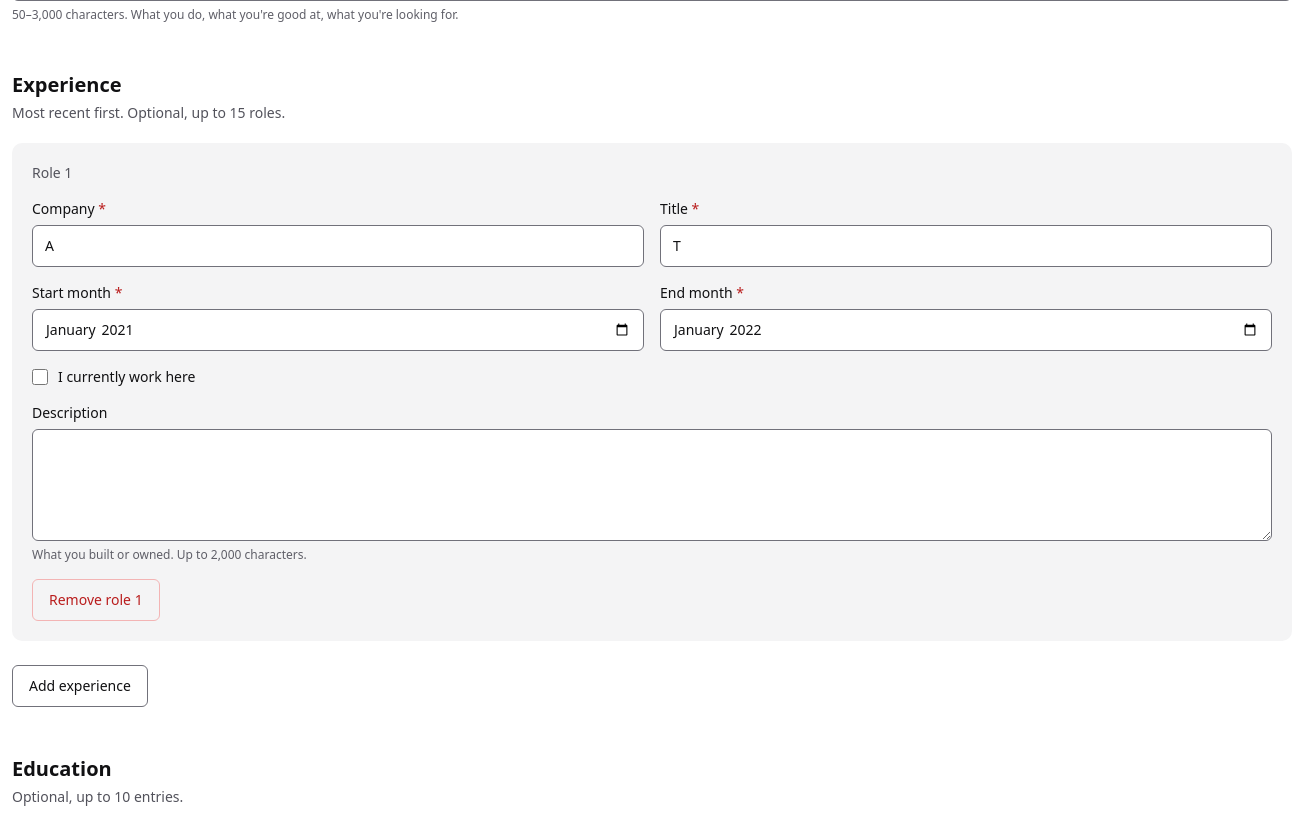
Scenario: CandidateForm › hides the end month when the role is current
(page scrolled)
expect the field labelled "End month *" is shown: met, box 660,308 -> 1272,350
Click the checkbox labelled "I currently work here".
click(40, 376)  # box 32,368 -> 48,384
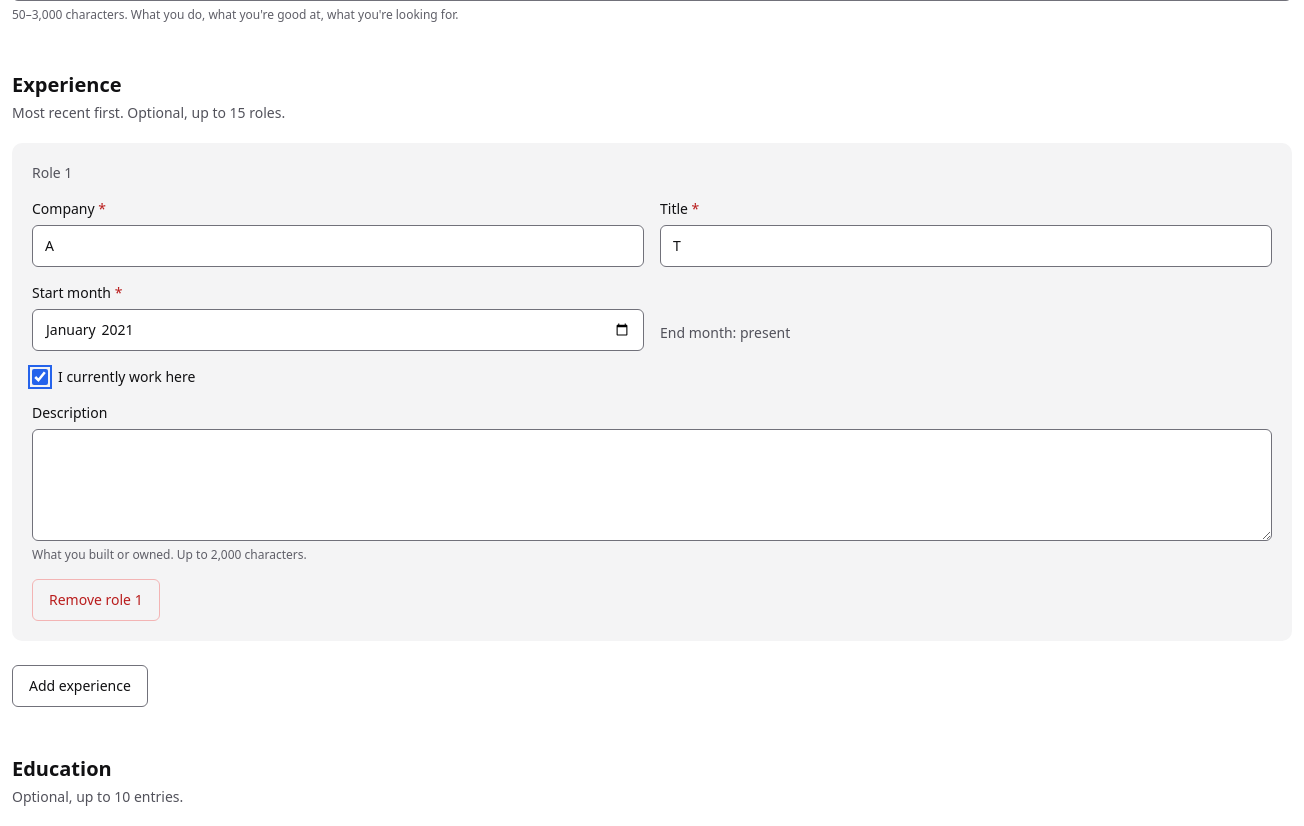
expect the text "End month: present" is shown: met, box 660,322 -> 790,342
